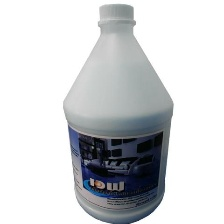cleaning_solution: (60, 1, 176, 224)
